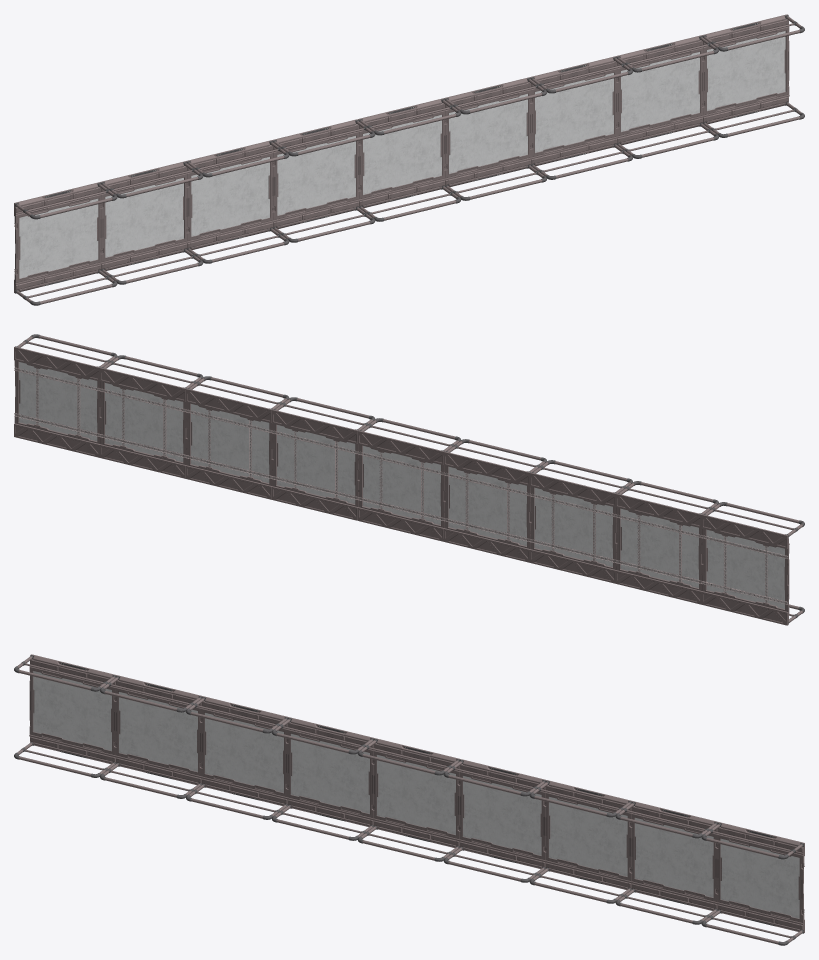
The model's file is Large_Grid_5915.obj.
The picture shows the model from 3 angles, top to bottom: view 1: azimuth 30°, elevation 25°; view 2: azimuth 150°, elevation 25°; view 3: azimuth 330°, elevation 25°; orthographic projection.
Parts seen in each view (by area): view 1: Large_Grid_5915_part3, Large_Grid_5915_part1, Large_Grid_5915_part4, Large_Grid_5915_part2, Large_Grid_5915_part7; view 2: Large_Grid_5915_part3, Large_Grid_5915_part1, Large_Grid_5915_part9, Large_Grid_5915_part4, Large_Grid_5915_part2; view 3: Large_Grid_5915_part3, Large_Grid_5915_part1, Large_Grid_5915_part4, Large_Grid_5915_part2, Large_Grid_5915_part7.
Part boxes in pixels (x1,y1,x2,y2): Large_Grid_5915_part3: (19,31,785,278); Large_Grid_5915_part1: (14,14,801,304); Large_Grid_5915_part4: (15,20,788,289); Large_Grid_5915_part2: (15,15,804,305); Large_Grid_5915_part7: (16,23,788,286); Large_Grid_5915_part3: (19,362,784,608); Large_Grid_5915_part1: (14,335,802,625); Large_Grid_5915_part9: (14,367,788,604); Large_Grid_5915_part4: (15,361,788,610); Large_Grid_5915_part2: (15,334,804,624); Large_Grid_5915_part3: (33,671,799,918); Large_Grid_5915_part1: (17,654,804,944); Large_Grid_5915_part4: (30,660,803,929); Large_Grid_5915_part2: (14,655,803,945); Large_Grid_5915_part7: (30,663,802,926).
Size of the model in its own units: 22.5 by 2.5 by 0.9961.
9 materials, 9 textured.
